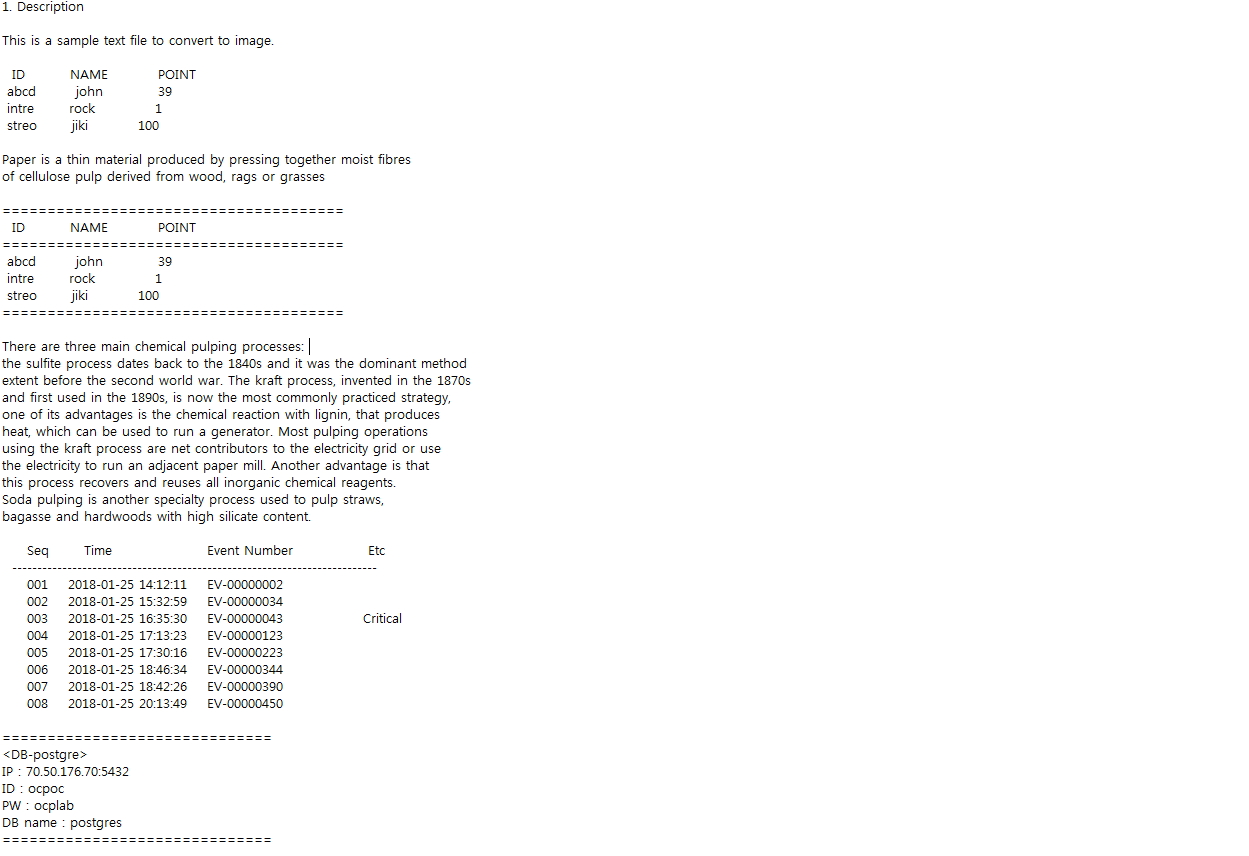table: (7, 538, 410, 718), (1, 202, 358, 328), (1, 60, 222, 140)
